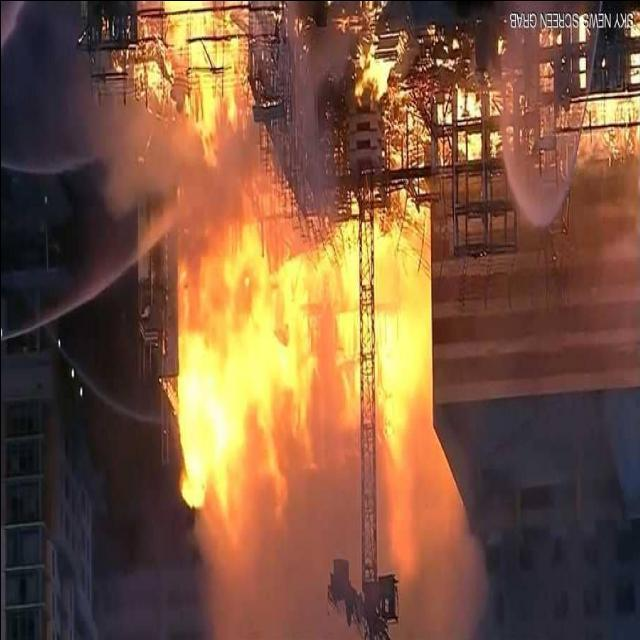Fire: (143, 0, 424, 504)
